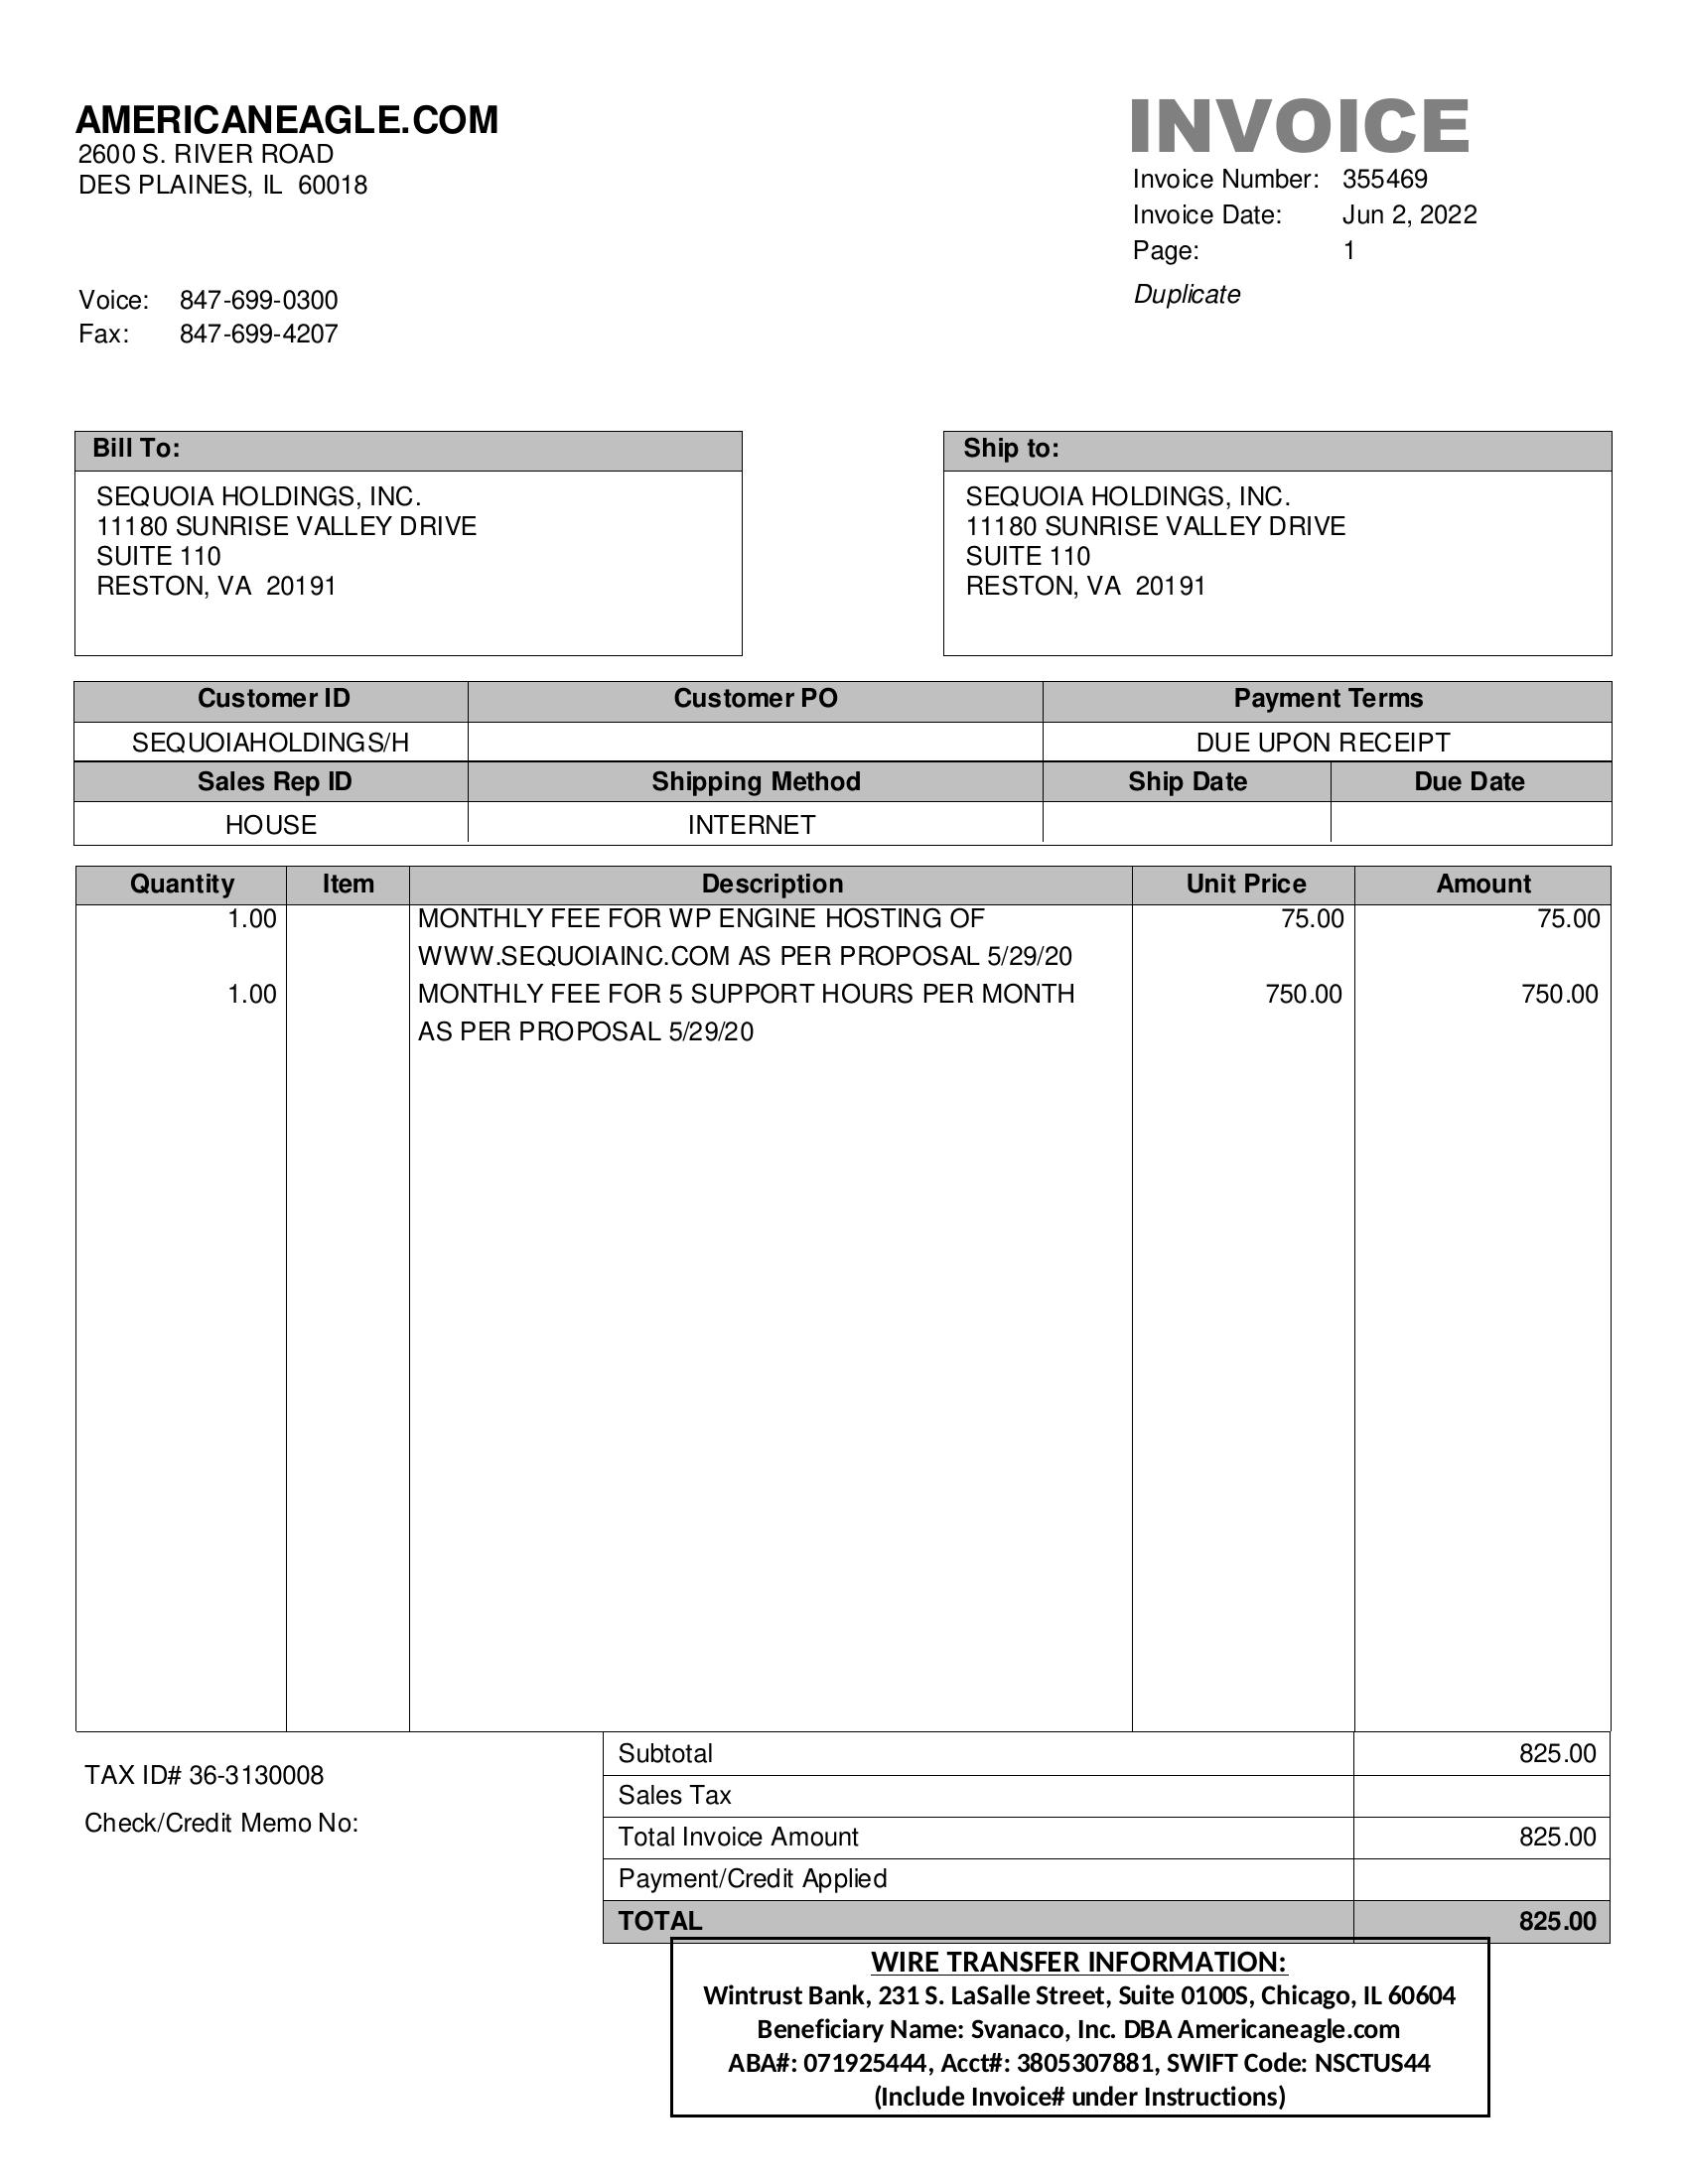table: (74, 858, 1612, 1732), (78, 681, 1612, 847)
